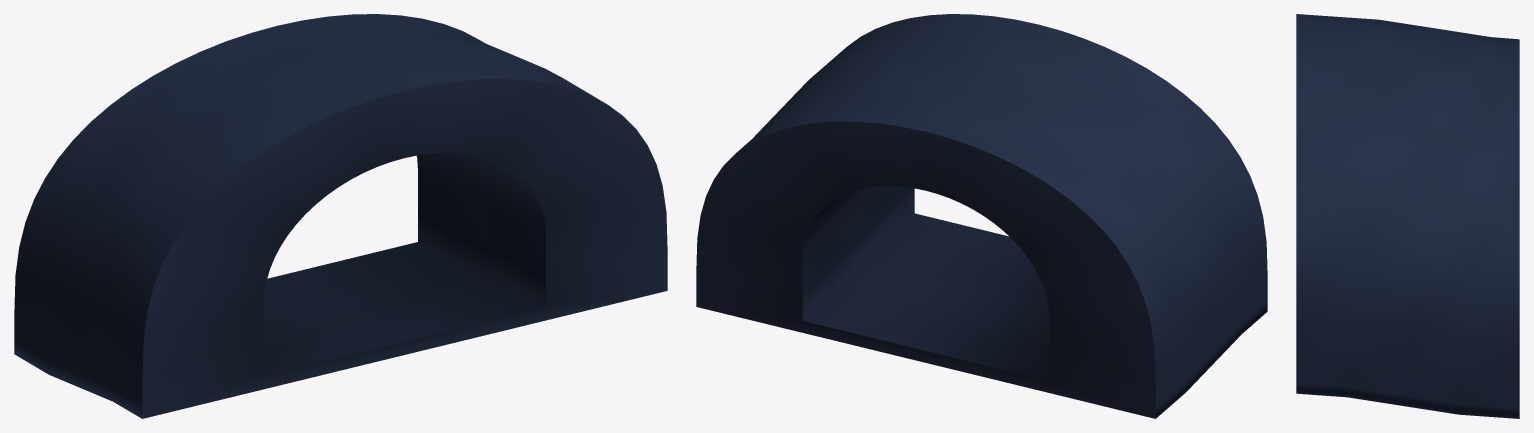
The model's file is grade_down_terrain_lod1.glb.
The picture shows the model from 3 angles, left to right: view 1: azimuth 30°, elevation 25°; view 2: azimuth 150°, elevation 25°; view 3: azimuth 270°, elevation 25°; orthographic projection. The views are drawn at different scales.
Parts seen in each view (by area): view 1: TerrainRoof.011; view 2: TerrainRoof.011; view 3: TerrainRoof.011.
Boxes of the visible parts, x1,y1,x2,y2 form: TerrainRoof.011: (14, 14, 667, 418); TerrainRoof.011: (696, 14, 1267, 418); TerrainRoof.011: (1296, 14, 1519, 418).
Bounding box in the file's own units: 28.4 × 15.15 × 12.
